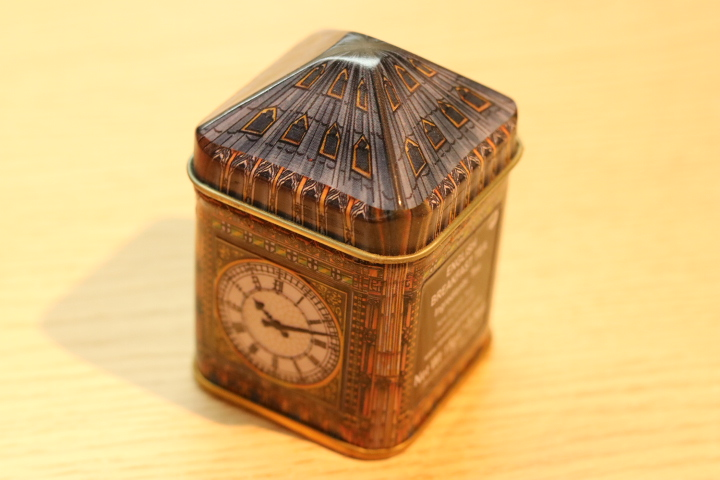Big Ben: (161, 18, 544, 472)
